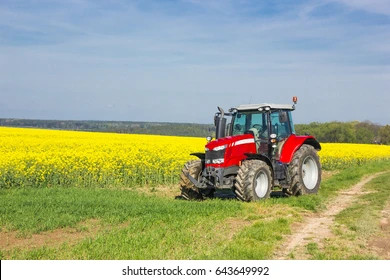tractor: (178, 96, 322, 203)
